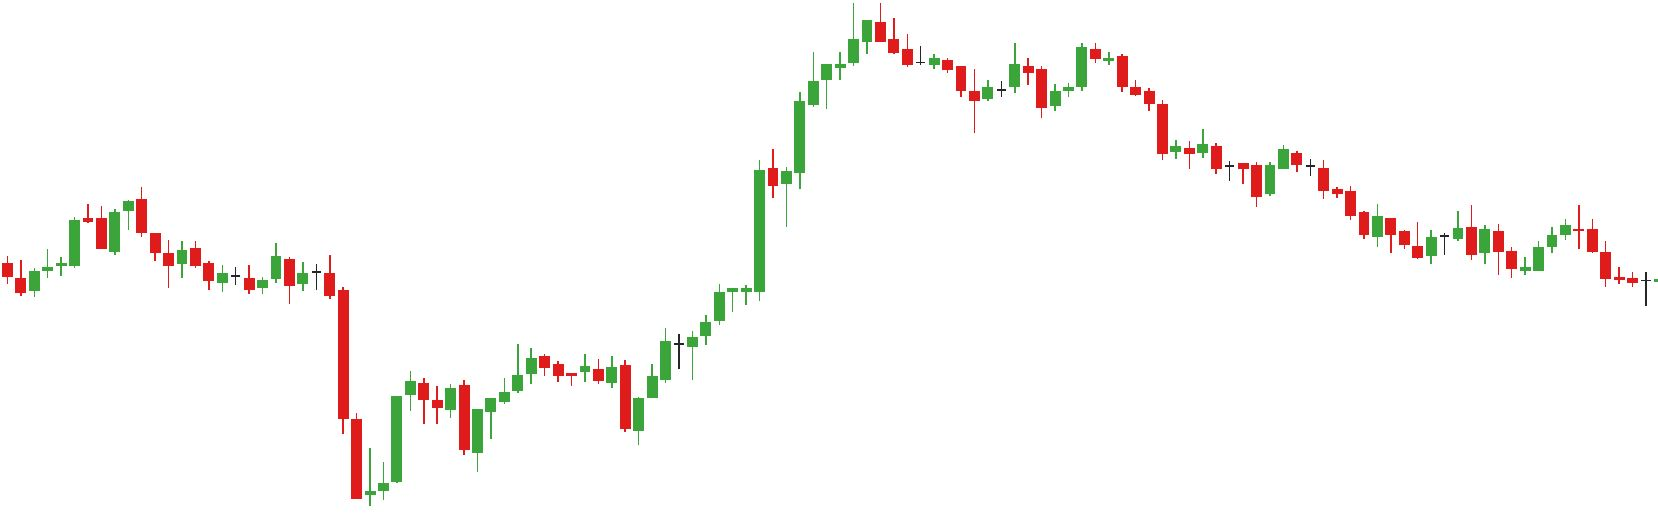sell: (1491, 206, 1602, 264), (81, 187, 150, 252)
